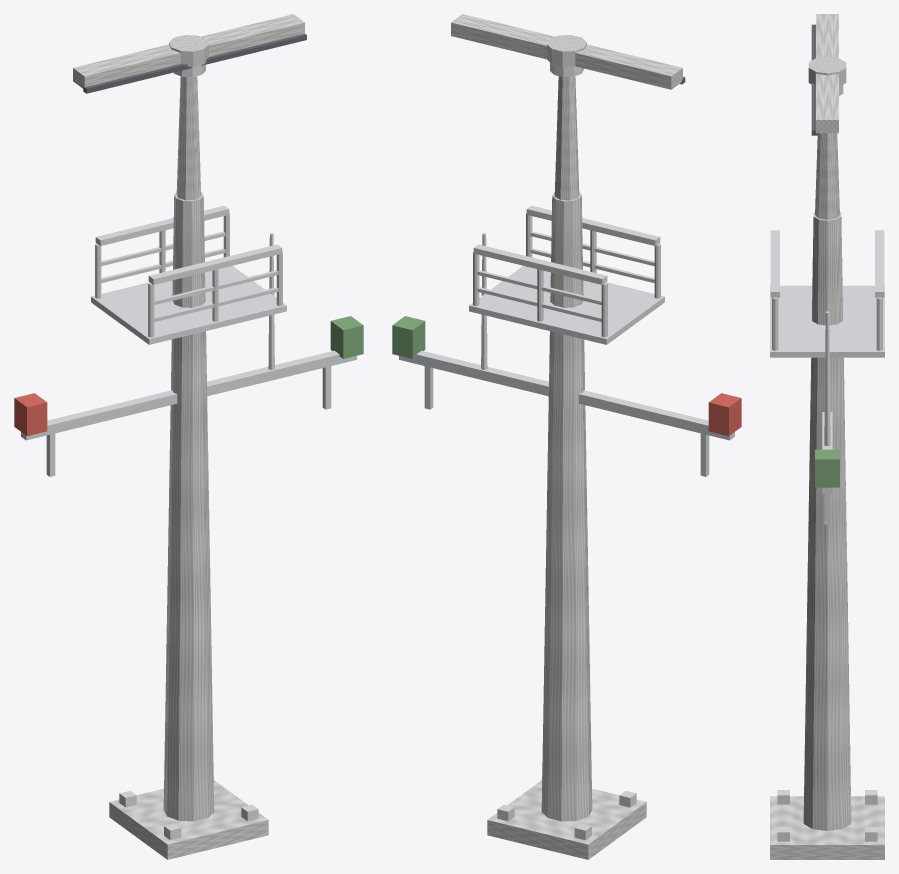
Rendered from cruise-ship-deck-and-lounge-cruise-ship-deck-and-loung-13b2502f__38416.glb.
3 views of the same model, side by side, from view 1: azimuth 30°, elevation 25°; view 2: azimuth 150°, elevation 25°; view 3: azimuth 270°, elevation 25° (orthographic).
Visible parts, largest first — view 1: cruise-ship-deck-and-lounge-mast-with-radar, radar-scanner/white (×2), radar-scanner/charcoal; view 2: cruise-ship-deck-and-lounge-mast-with-radar, radar-scanner/white (×2); view 3: cruise-ship-deck-and-lounge-mast-with-radar, radar-scanner/white (×2), radar-scanner/charcoal.
Boxes of the visible parts, <box> form: cruise-ship-deck-and-lounge-mast-with-radar: <box>14,64,363,859</box>; radar-scanner/white (×2): <box>73,14,304,88</box>; radar-scanner/charcoal: <box>83,33,306,93</box>; cruise-ship-deck-and-lounge-mast-with-radar: <box>392,63,741,859</box>; radar-scanner/white (×2): <box>451,14,682,89</box>; cruise-ship-deck-and-lounge-mast-with-radar: <box>770,85,884,859</box>; radar-scanner/white (×2): <box>808,14,846,133</box>; radar-scanner/charcoal: <box>811,24,817,135</box>.
Bounding box in the file's own units: 3.66 × 8.14 × 1.1.
Materials: 5 (1 with a texture image).
